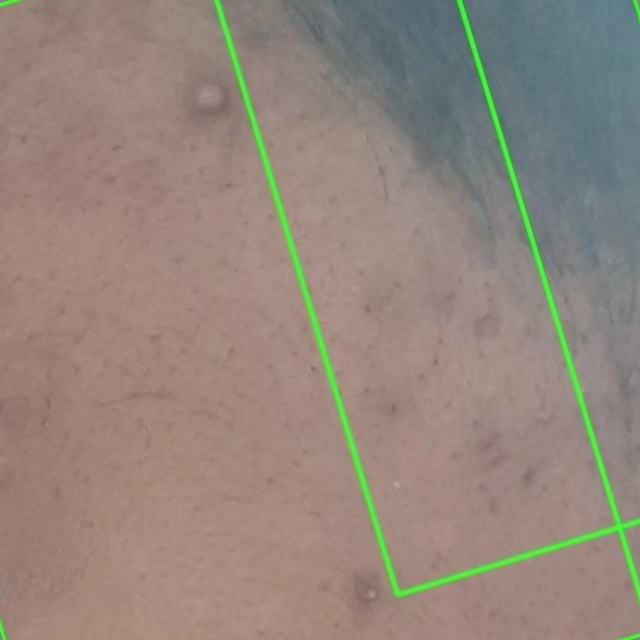Seborrheic Dermatitis: (0, 0, 639, 639), (216, 0, 639, 594)
